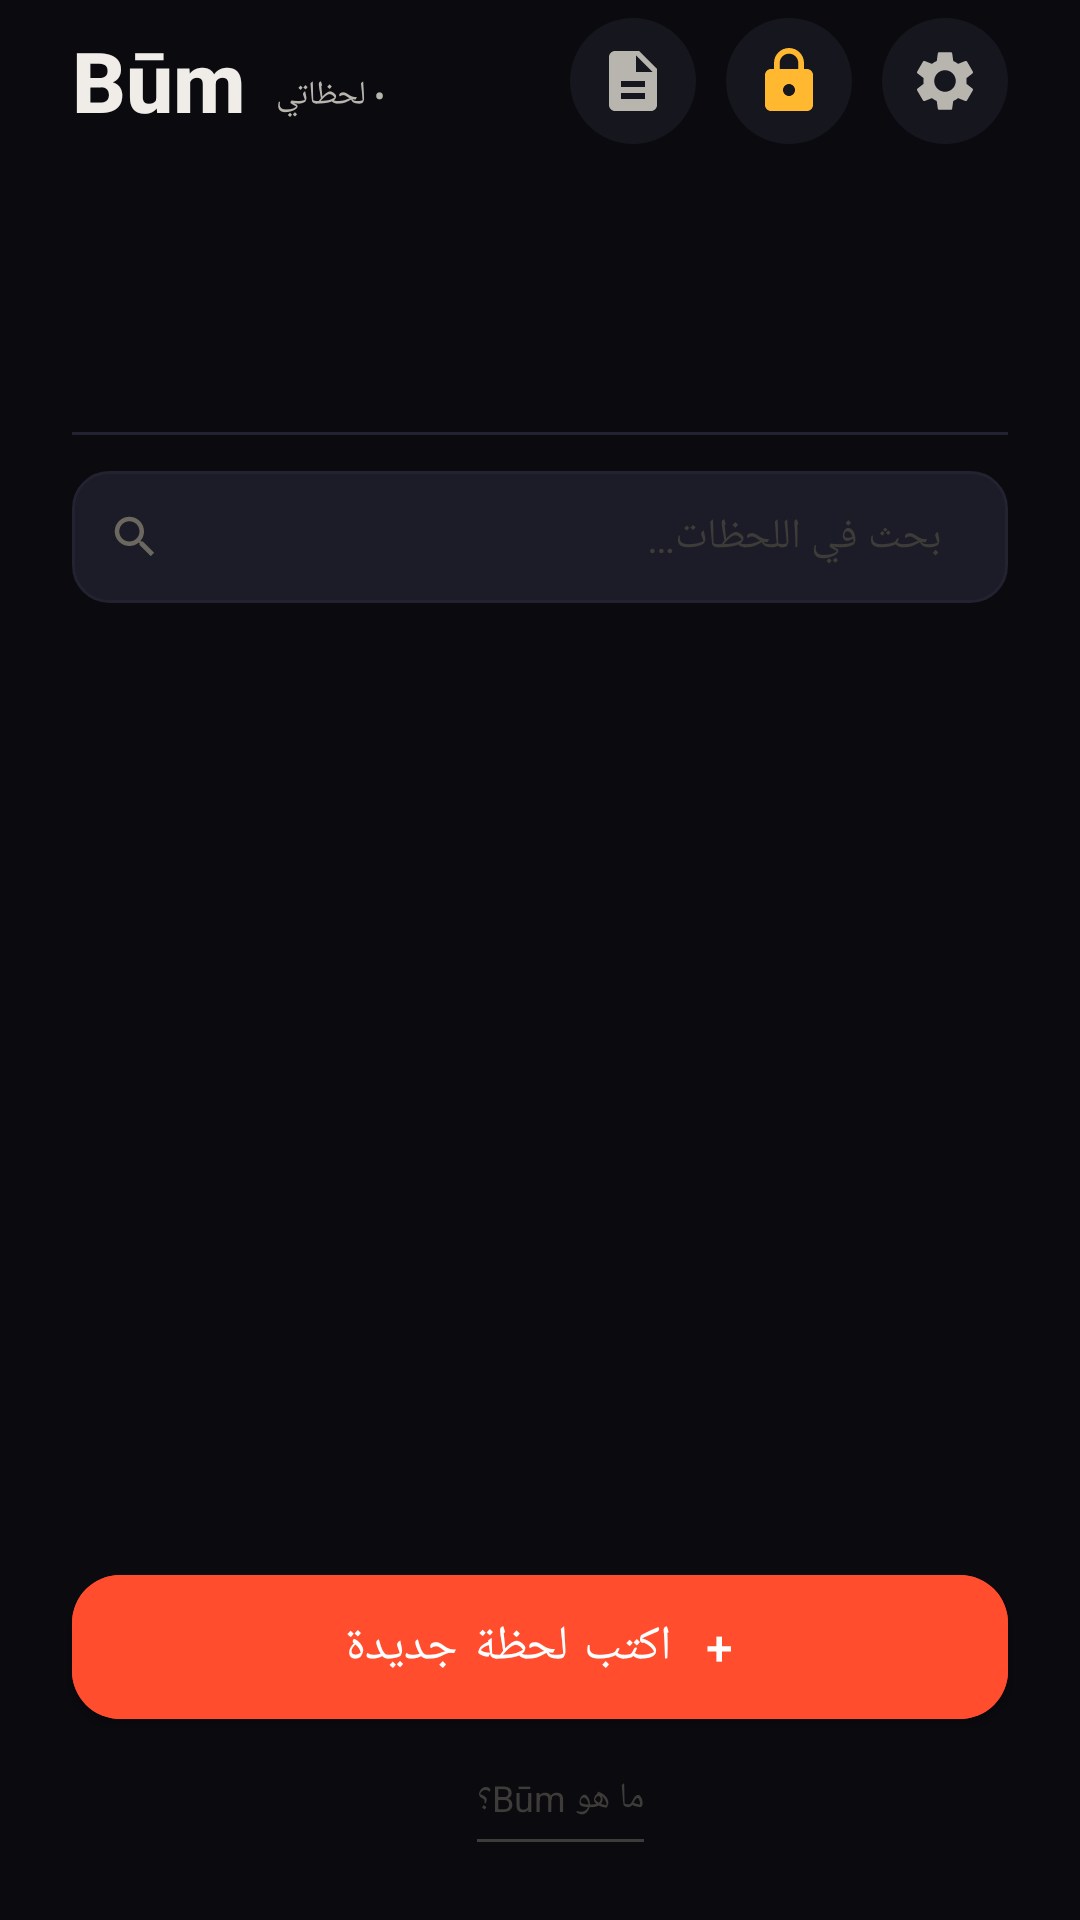

Screen size 1080px x 1920px. Icon name, then its box in pixels as [x1, y1, x2, y2]:
search: [115, 517, 154, 556]
settings: [917, 52, 973, 110]
vault: [765, 48, 813, 111]
